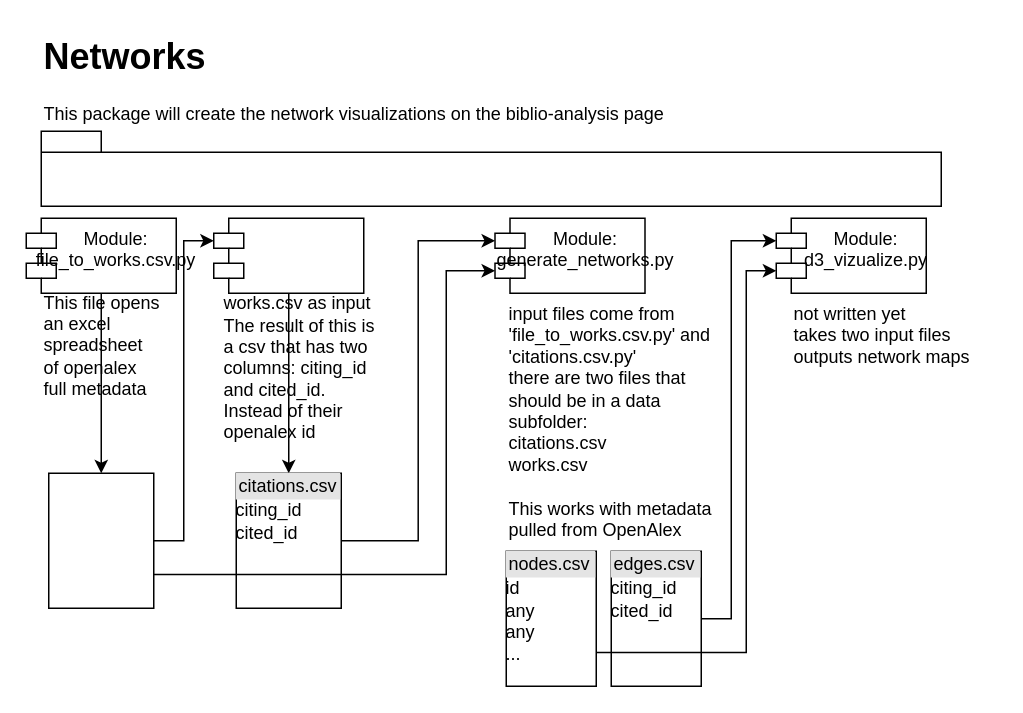
The diagram is 1023 pixels wide and 713 high, and some of its shapes have lost their labels. Each missing label, with the centre of its shape:
"Module: citations.csv.py" belongs at point 288,255.
"package: networks" belongs at point 490,168.
"works.csv id cite_id" belongs at point 100,540.
